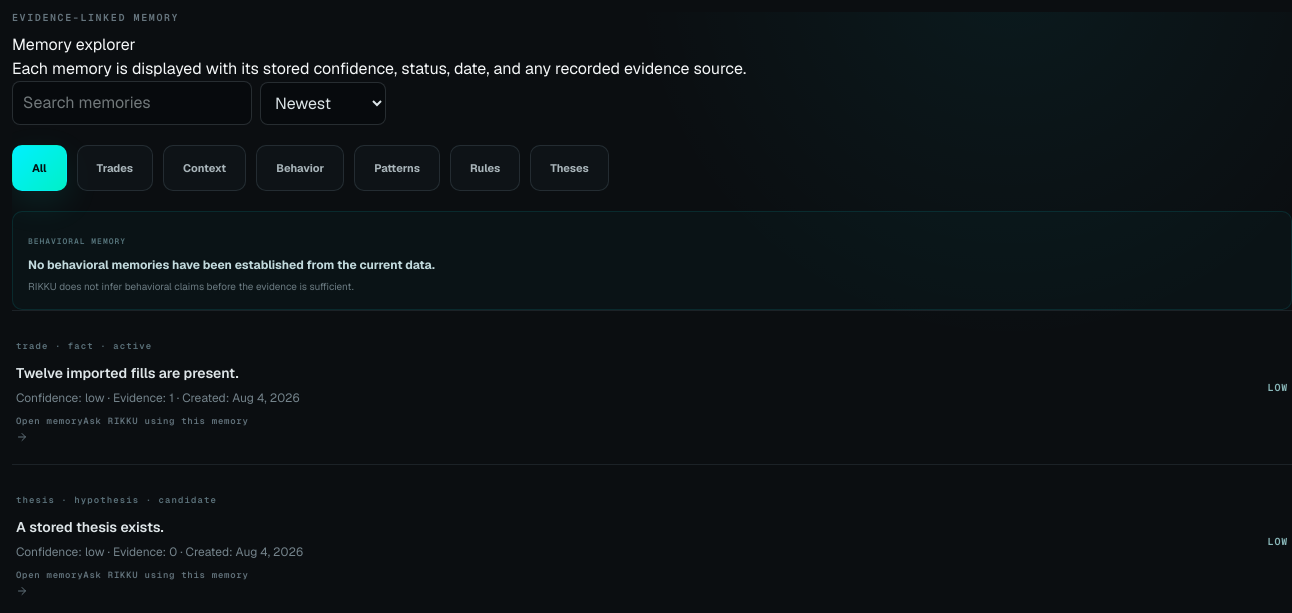
Test case: evidence-backed workspace pages › filters evidence-linked memories and carries selected evidence into Ask RIKKU
Click the button "Trades": (115, 168) left=76, top=145, right=153, bottom=191
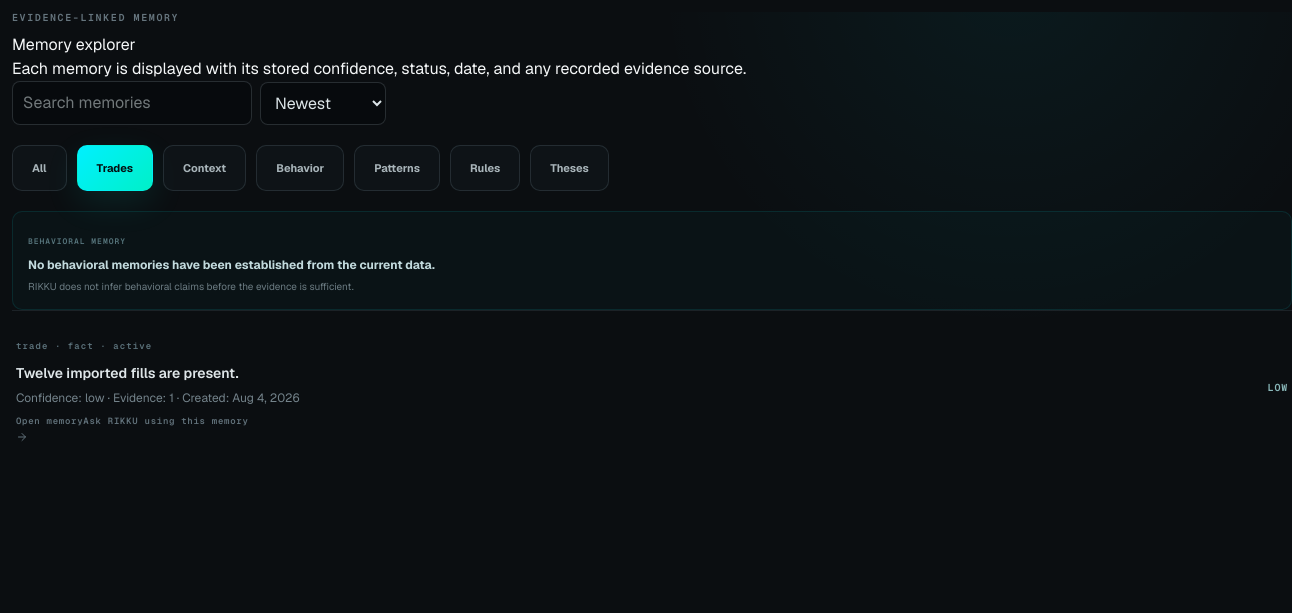
Expected: the heading "Twelve imported fills are present." is shown, left=16, top=364, right=239, bottom=382
Expected: the heading "A stored thesis exists." is gone
Click the button "Open memory": (50, 421) left=16, top=415, right=83, bottom=427
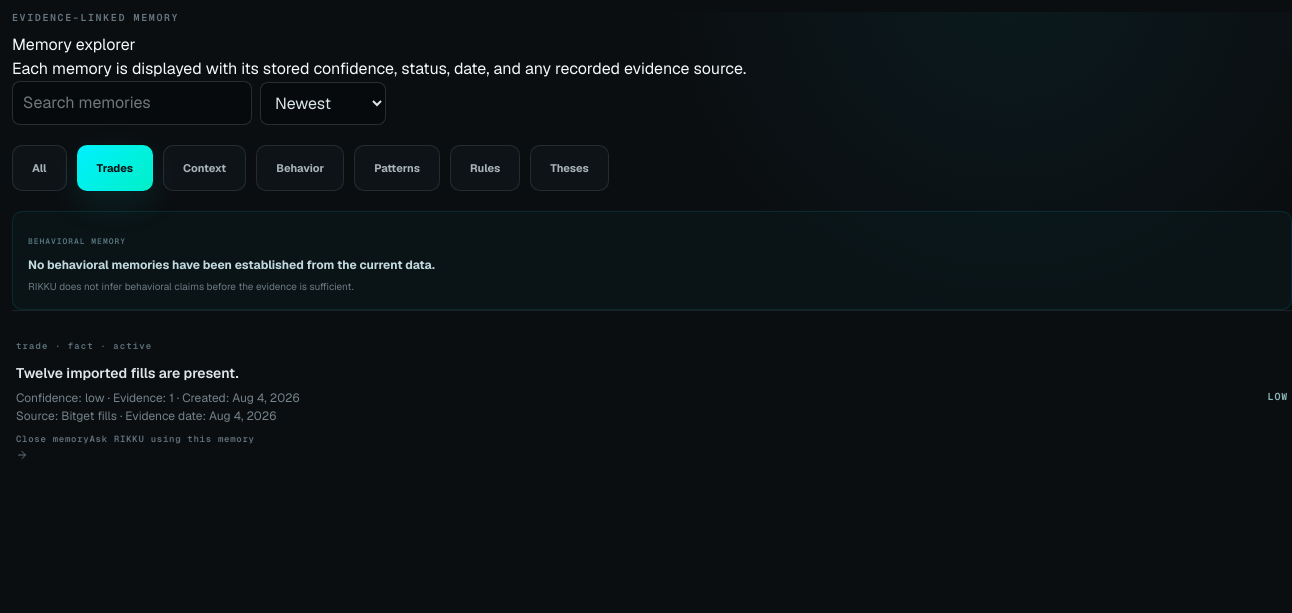
Expected: the text "Source: Bitget fills · Evidence date: Aug 4, 2026" is shown, left=16, top=408, right=276, bottom=424
In the field labelled "Search memories": (132, 103) left=12, top=81, right=252, bottom=125, type "not present"
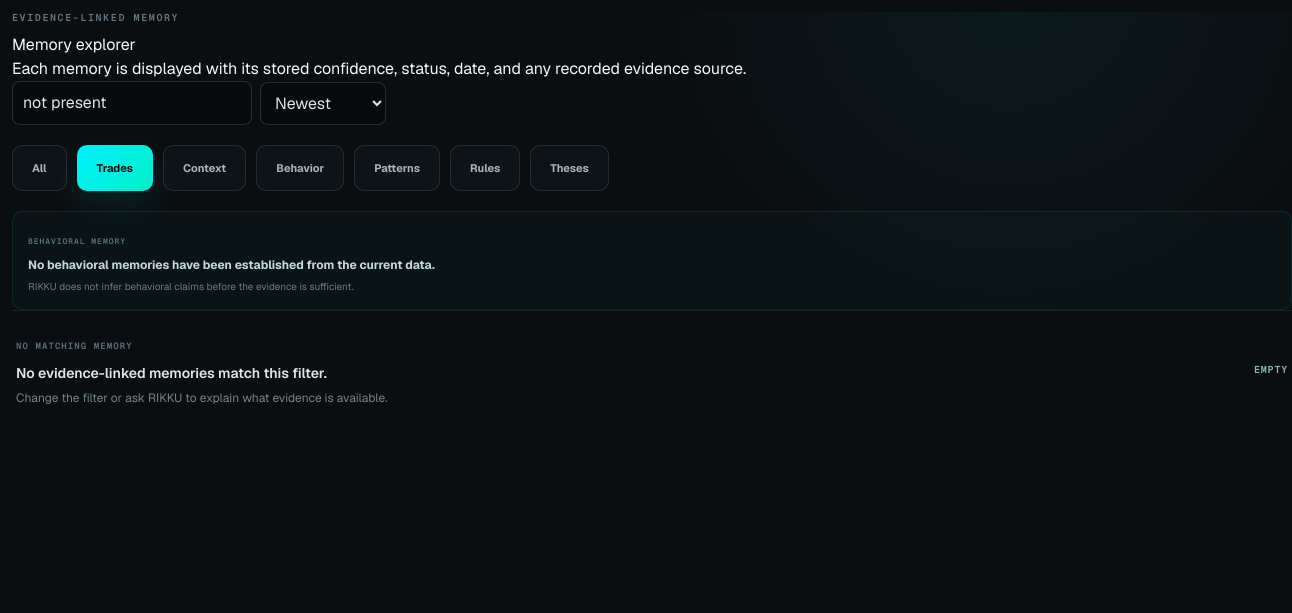
Expected: the heading "No evidence-linked memories match this filter." is shown, left=16, top=364, right=327, bottom=382
